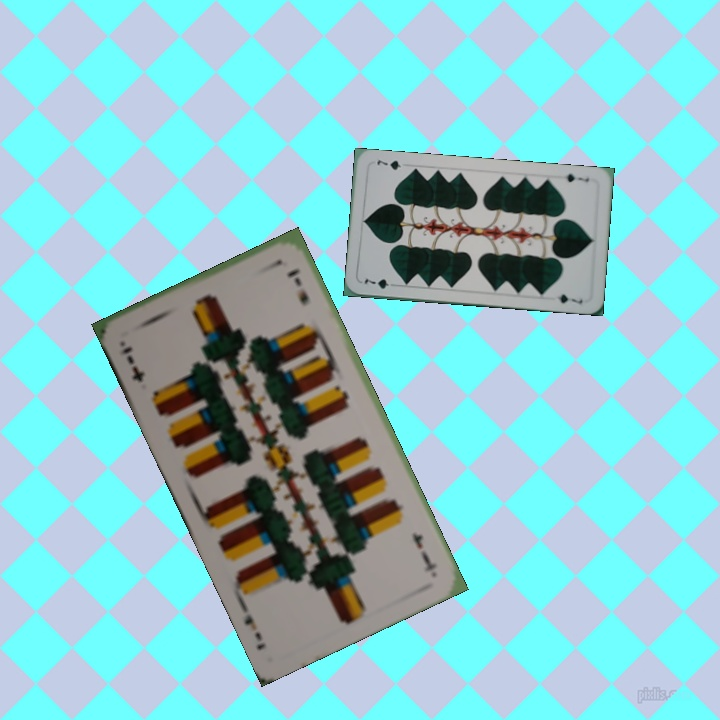E7: (408, 528, 440, 575), (117, 342, 148, 385)
G7: (360, 275, 400, 291), (557, 169, 592, 185)
